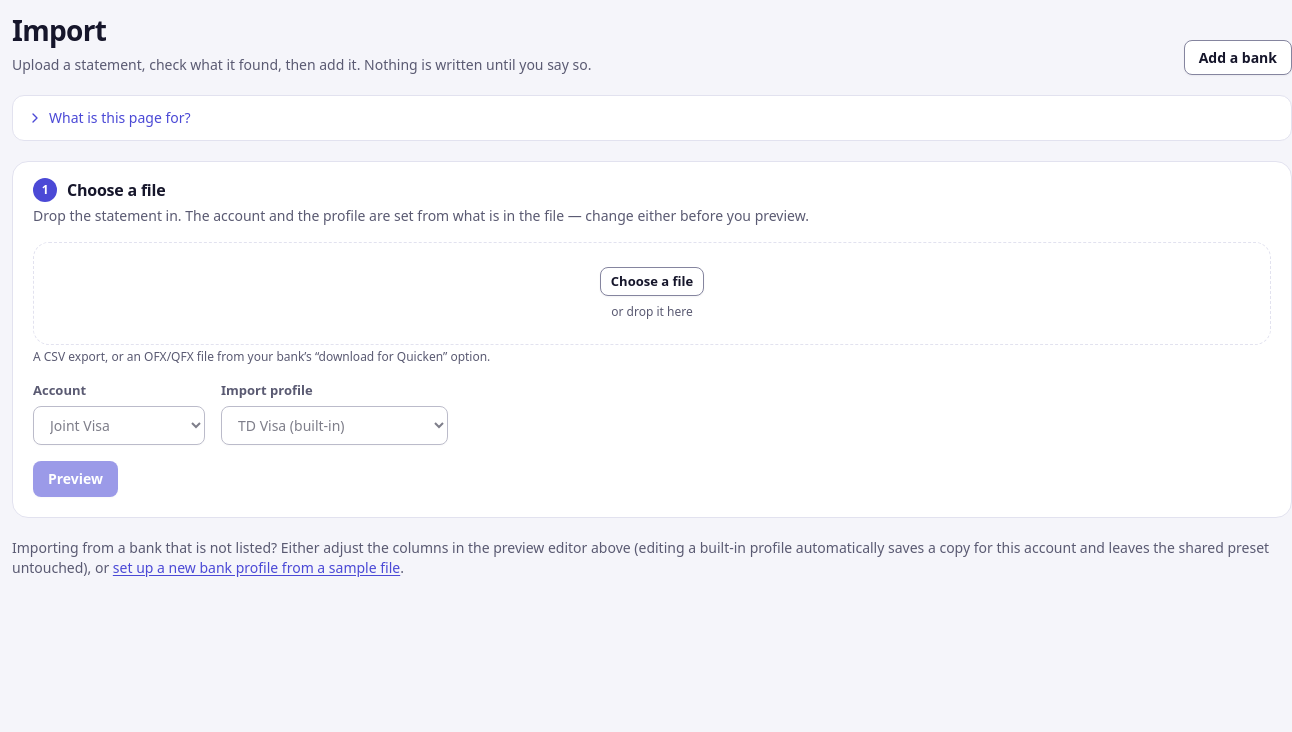
Test: ImportClient — the profile follows the account (I4) › falls back to the first profile for an account that has never been imported into, instead of keeping the previous account's
This screenshot has width=1292, height=732.
Expected: the dropdown labelled "Import profile" shows "TD Visa (built-in)", [221,406,448,445]
Step 1. Select "Brand New Account" in the dropdown labelled "Account" → x=119, y=426, box [33,406,205,445]
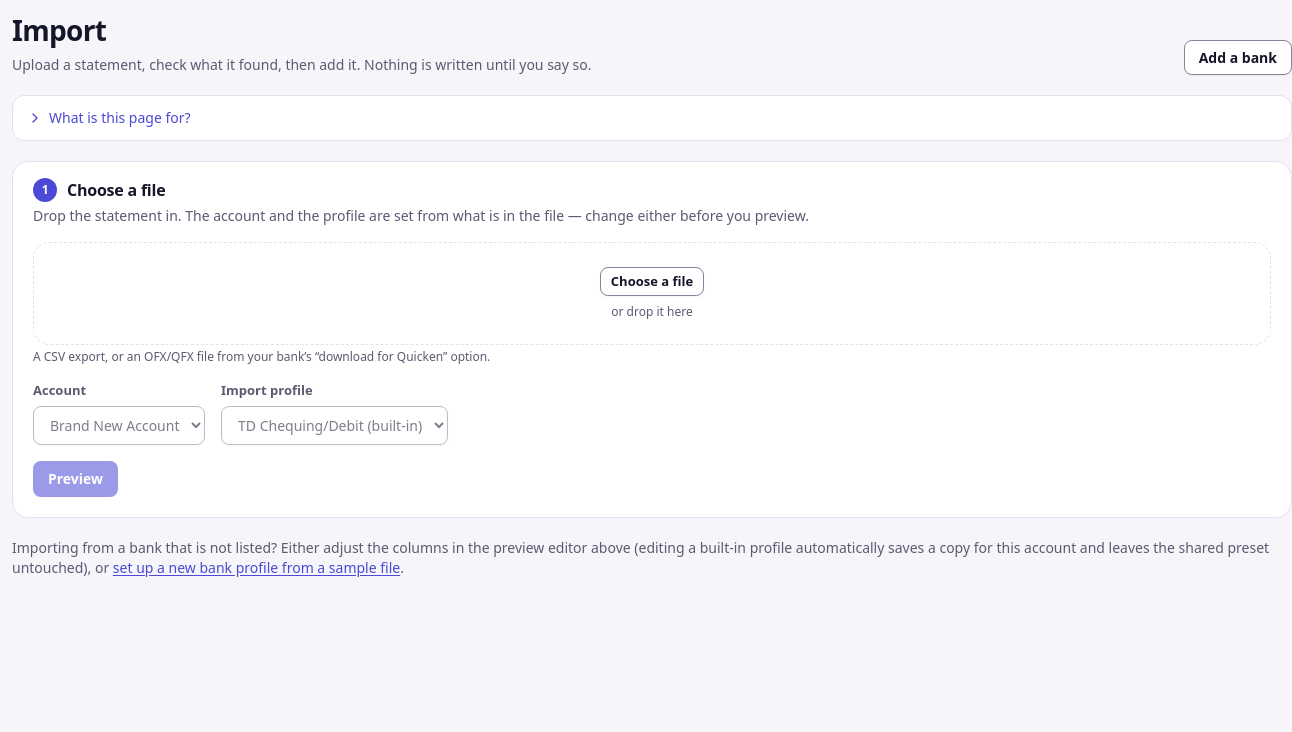
Expected: the dropdown labelled "Import profile" shows "TD Chequing/Debit (built-in)", [221,406,448,445]
